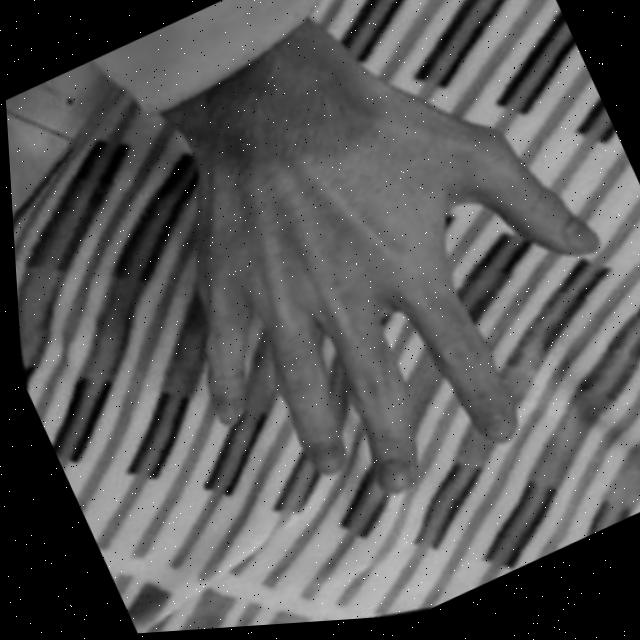hand: (103, 12, 640, 566)
